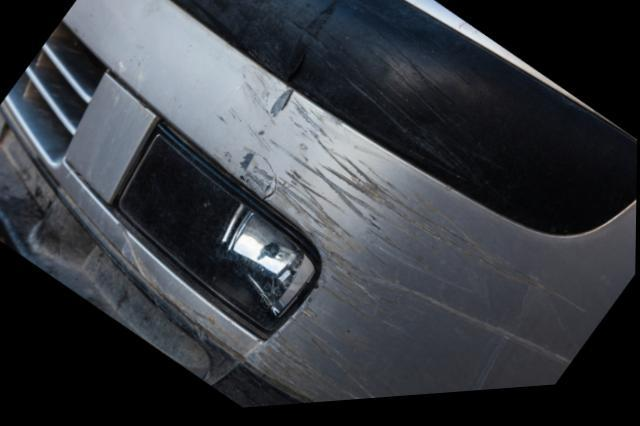scratch: (208, 65, 600, 407), (308, 26, 504, 195)
